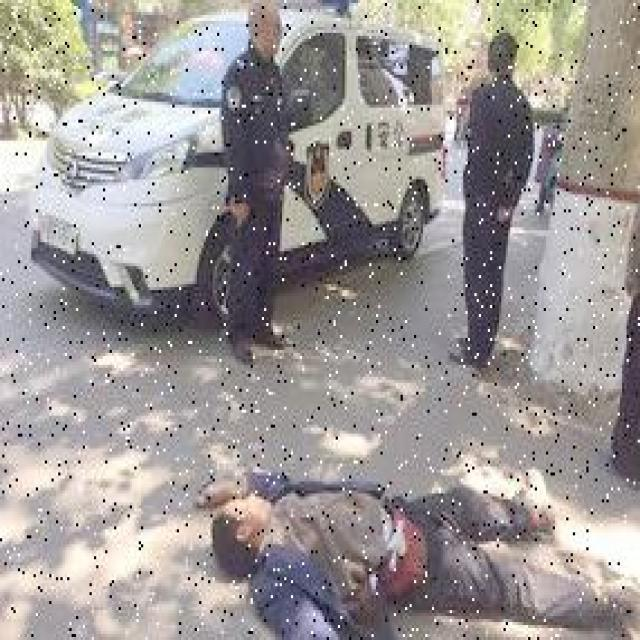fall: (183, 452, 638, 622)
